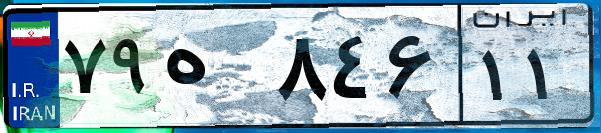1: (475, 38, 525, 113), (525, 38, 570, 115)
4: (330, 28, 385, 110)
6: (385, 28, 445, 110)
7: (57, 26, 110, 100)
8: (270, 28, 330, 110)
9: (110, 28, 158, 98)
ه: (158, 20, 270, 120)
